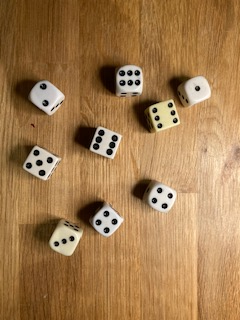five: (20, 145, 62, 182)
four: (88, 202, 125, 236), (142, 180, 178, 214)
one: (176, 75, 213, 108)
six: (141, 98, 181, 134), (88, 126, 123, 161), (113, 63, 144, 98)
three: (48, 218, 84, 258)
two: (26, 79, 67, 117)
